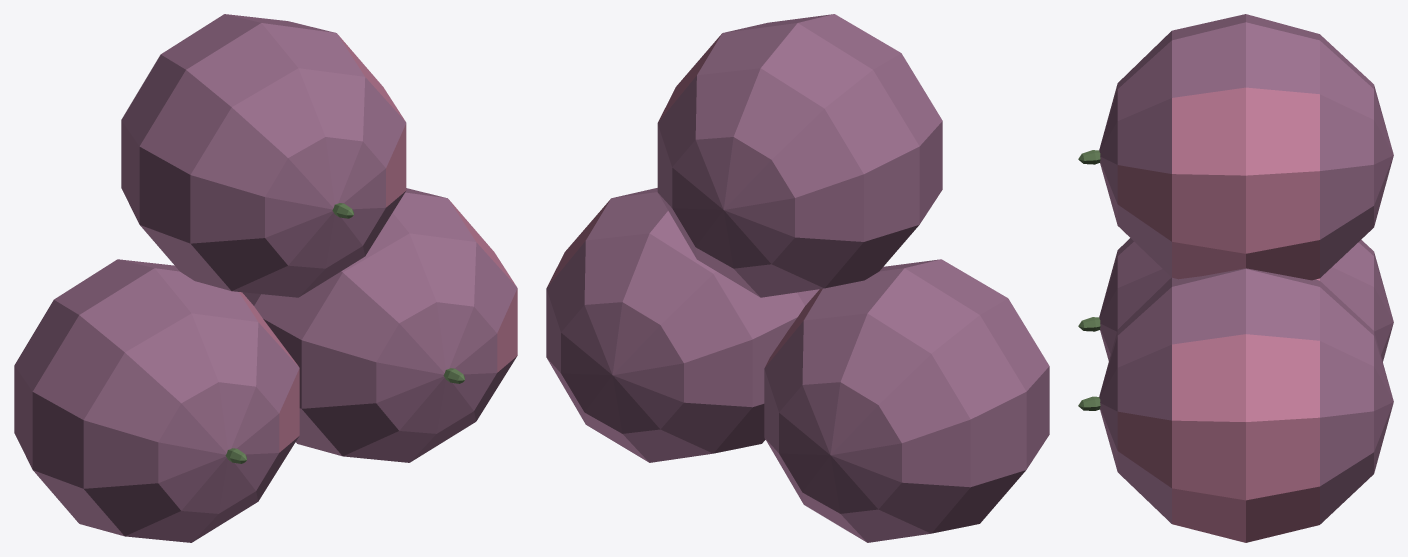
Rendered from passion_fruit.glb.
3 views of the same model, side by side, from view 1: azimuth 30°, elevation 25°; view 2: azimuth 150°, elevation 25°; view 3: azimuth 270°, elevation 25° (orthographic).
Visible parts, largest first — view 1: passion_fruit; view 2: passion_fruit; view 3: passion_fruit.
Part boxes in pixels (left/top/right/bottom): passion_fruit: left=14, top=14, right=517, bottom=542; passion_fruit: left=546, top=14, right=1049, bottom=542; passion_fruit: left=1078, top=14, right=1393, bottom=542.
Size of the model in its own units: 0.1081 by 0.1085 by 0.064.
